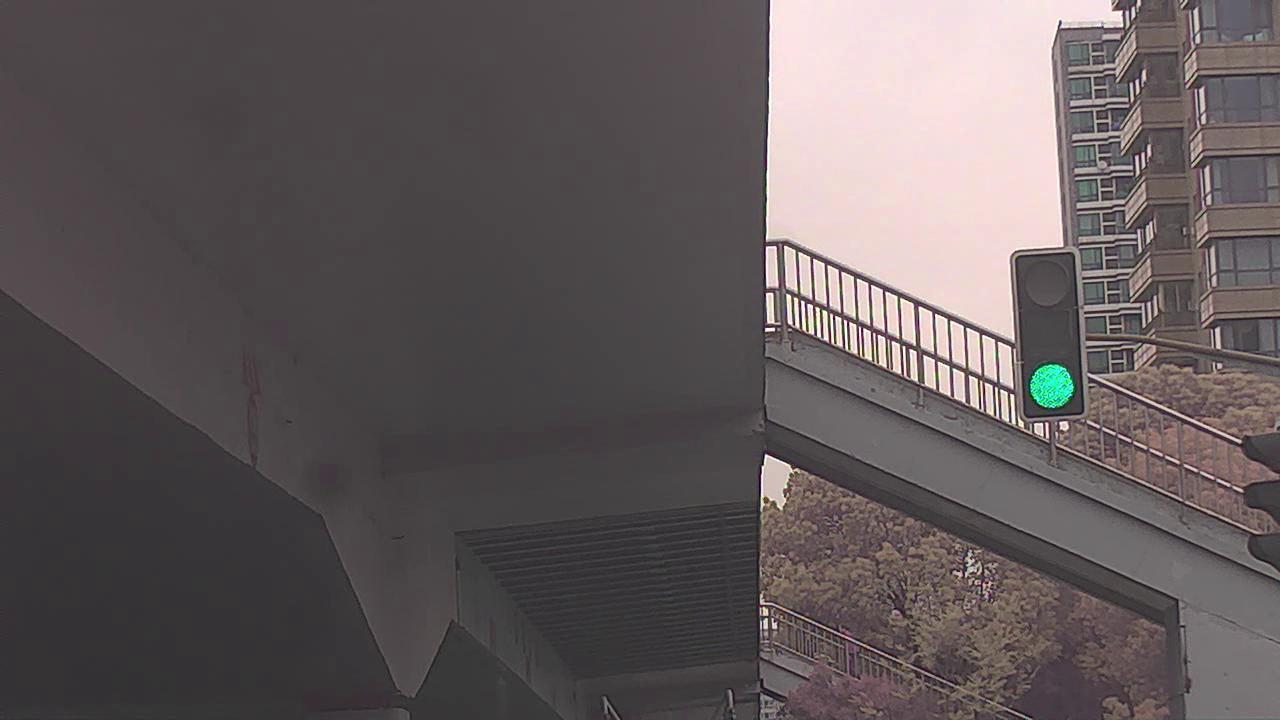traffic_light: (1014, 254, 1081, 423)
